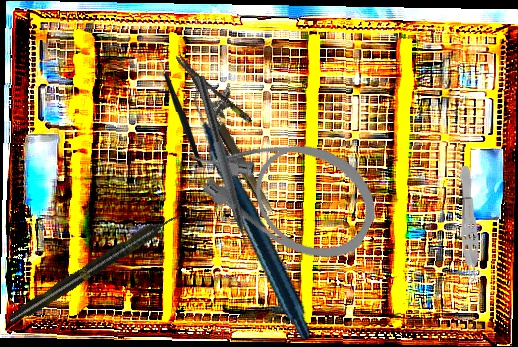Cannula: (171, 94, 393, 278)
Chopper: (182, 75, 257, 262), (150, 56, 205, 168)
Handpiece: (153, 83, 353, 340), (5, 207, 186, 328)
Needle Holder: (174, 38, 296, 217)
Tissue Forceps: (454, 165, 482, 289)
